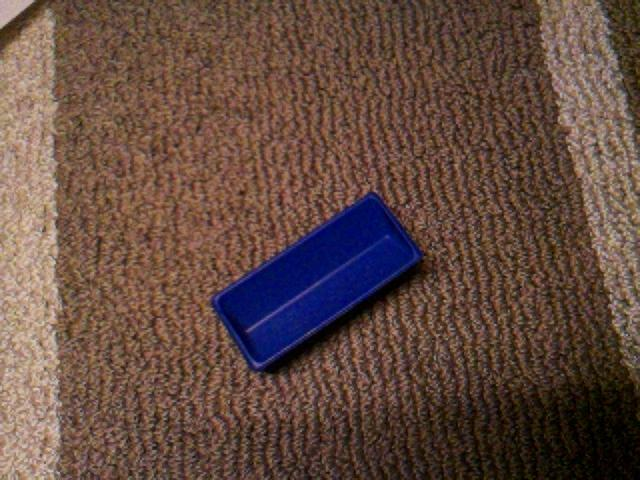blue: (211, 191, 425, 374)
